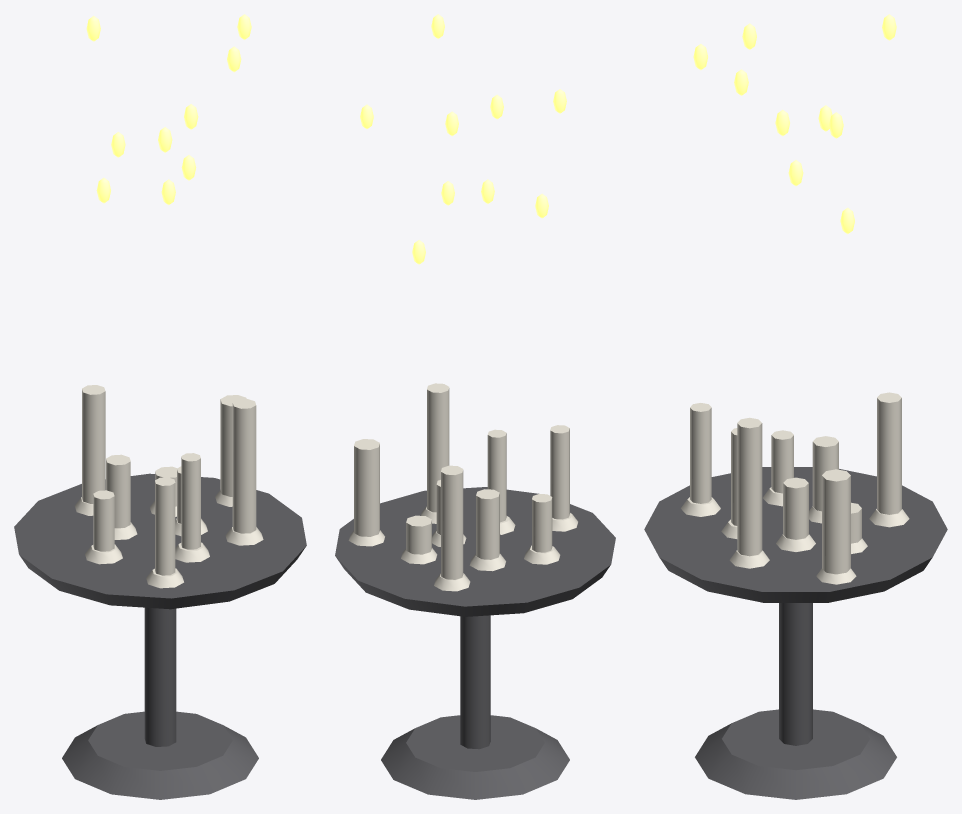
Rendered from Candles.glb.
3 renders of one model, left to right at view 1: azimuth 30°, elevation 25°; view 2: azimuth 150°, elevation 25°; view 3: azimuth 270°, elevation 25°, orthographic. The views are drawn at different scales.
Parts seen in each view (by area): view 1: Candles_cyl.002, Candles_cyl.001, Candles_cyl, Candles_cyl.013, Candles_cyl.015, Candles_cyl.017, Candles_cyl.007, Candles_cyl.005, Candles_cyl.019, Candles_cyl.011; view 2: Candles_cyl.002, Candles_cyl.001, Candles_cyl, Candles_cyl.015, Candles_cyl.019, Candles_cyl.013, Candles_cyl.017, Candles_cyl.005, Candles_cyl.007, Candles_cyl.011, Candles_cyl.009; view 3: Candles_cyl.002, Candles_cyl.001, Candles_cyl, Candles_cyl.013, Candles_cyl.015, Candles_cyl.019, Candles_cyl.017, Candles_cyl.003, Candles_cyl.005, Candles_cyl.011, Candles_cyl.007.
Part boxes in pixels (<box>): Candles_cyl.002: <box>14,473,306,609</box>; Candles_cyl.001: <box>62,711,258,799</box>; Candles_cyl: <box>144,607,176,746</box>; Candles_cyl.013: <box>232,399,256,533</box>; Candles_cyl.015: <box>82,385,105,503</box>; Candles_cyl.017: <box>155,477,175,575</box>; Candles_cyl.007: <box>181,453,200,549</box>; Candles_cyl.005: <box>106,454,130,528</box>; Candles_cyl.019: <box>220,395,246,496</box>; Candles_cyl.011: <box>93,490,114,551</box>; Candles_cyl.002: <box>335,487,615,616</box>; Candles_cyl.001: <box>381,715,569,799</box>; Candles_cyl: <box>460,615,490,749</box>; Candles_cyl.015: <box>441,465,463,579</box>; Candles_cyl.019: <box>354,439,379,536</box>; Candles_cyl.013: <box>427,383,449,512</box>; Candles_cyl.017: <box>550,425,569,519</box>; Candles_cyl.005: <box>476,489,499,559</box>; Candles_cyl.007: <box>487,429,506,522</box>; Candles_cyl.011: <box>532,494,552,552</box>; Candles_cyl.009: <box>406,515,431,554</box>; Candles_cyl.002: <box>644,467,947,602</box>; Candles_cyl.001: <box>695,709,896,799</box>; Candles_cyl: <box>779,603,812,745</box>; Candles_cyl.013: <box>737,417,762,556</box>; Candles_cyl.015: <box>877,392,901,514</box>; Candles_cyl.019: <box>822,469,850,574</box>; Candles_cyl.017: <box>690,403,711,503</box>; Candles_cyl.003: <box>783,477,808,539</box>; Candles_cyl.005: <box>812,436,838,511</box>; Candles_cyl.011: <box>771,430,793,493</box>; Candles_cyl.007: <box>731,428,737,525</box>.
Size of the model in its own units: 0.8774 by 2.5 by 0.9.
